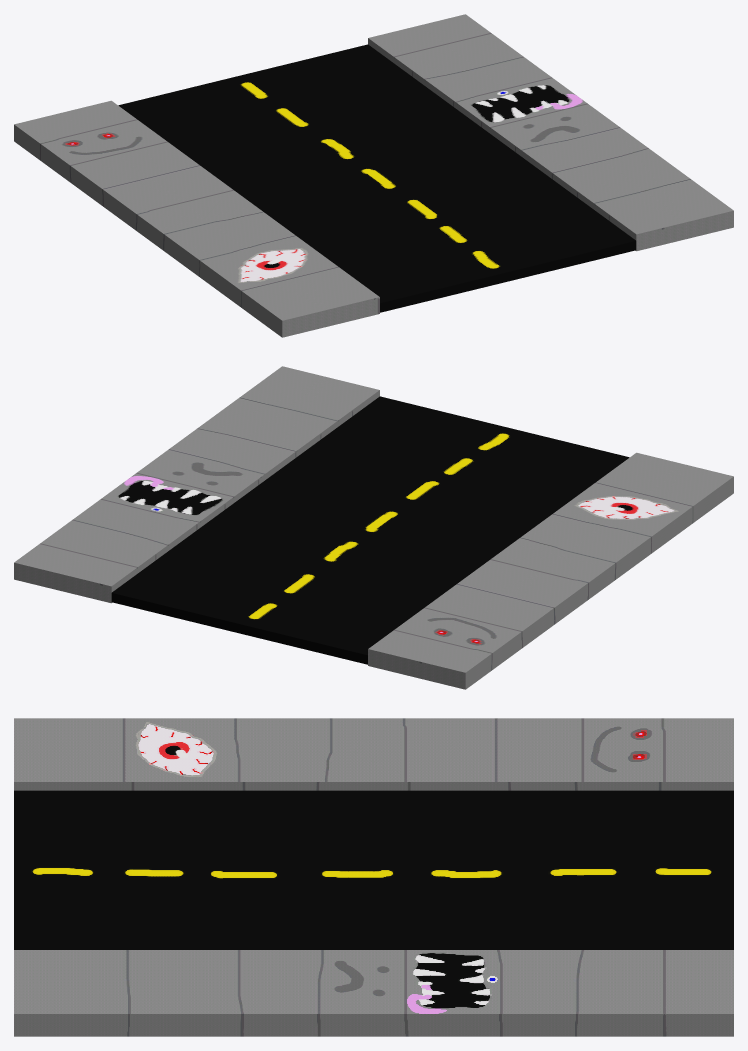
The model's file is street.gltf.
3 views of the same model, one above another, from view 1: azimuth 30°, elevation 25°; view 2: azimuth 150°, elevation 25°; view 3: azimuth 270°, elevation 25° (orthographic). The views are drawn at different scales.
Visible parts, largest first — view 1: Cube, Cube_001; view 2: Cube, Cube_001; view 3: Cube, Cube_001.
Part boxes in pixels (bbox=[...]): Cube: bbox=[118, 44, 636, 312]; Cube_001: bbox=[14, 14, 733, 337]; Cube: bbox=[111, 396, 629, 664]; Cube_001: bbox=[14, 366, 733, 689]; Cube: bbox=[14, 790, 733, 949]; Cube_001: bbox=[14, 718, 733, 1036].
Bounding box in the file's own units: 15.52 × 0.5564 × 15.97.
2 materials, 2 textured.
